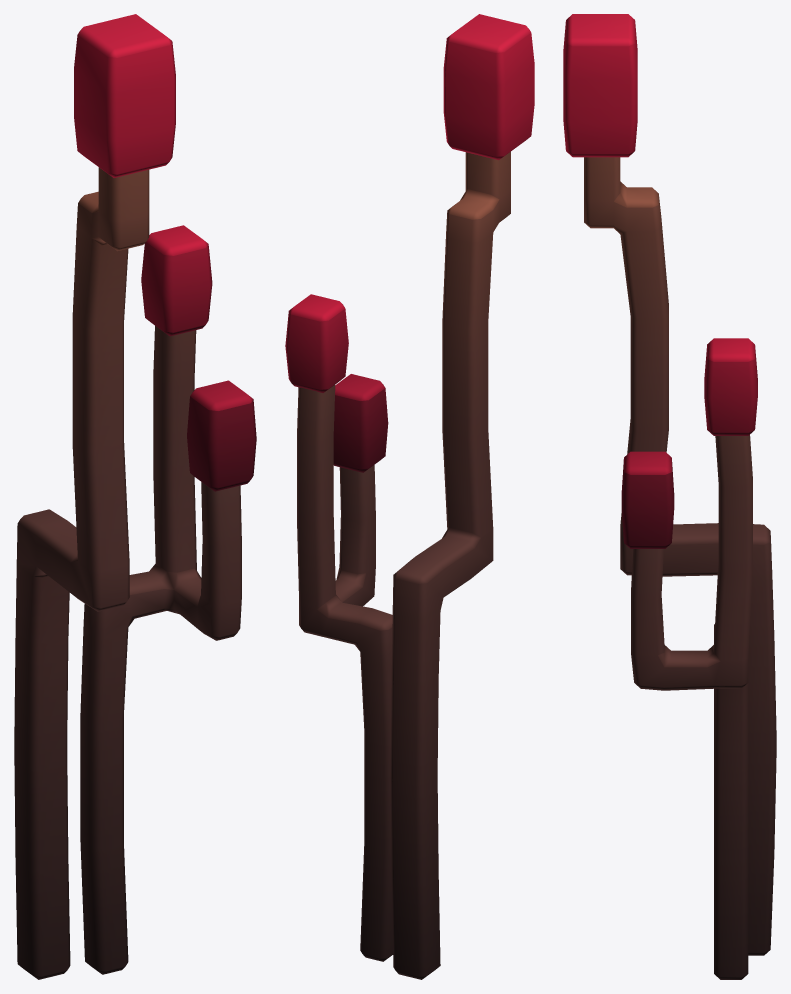
Rendered from shrub_06.fbx.
3 renders of one model, left to right at view 1: azimuth 30°, elevation 25°; view 2: azimuth 150°, elevation 25°; view 3: azimuth 270°, elevation 25°, orthographic. The views are drawn at different scales.
Parts seen in each view (by area): view 1: shrub_06; view 2: shrub_06; view 3: shrub_06.
Part boxes in pixels (box(x1,y1,x2,y2)): shrub_06: box(14, 14, 256, 979); shrub_06: box(285, 14, 534, 979); shrub_06: box(563, 14, 776, 979).
Size of the model in its own units: 73.7 by 386 by 80.68.
